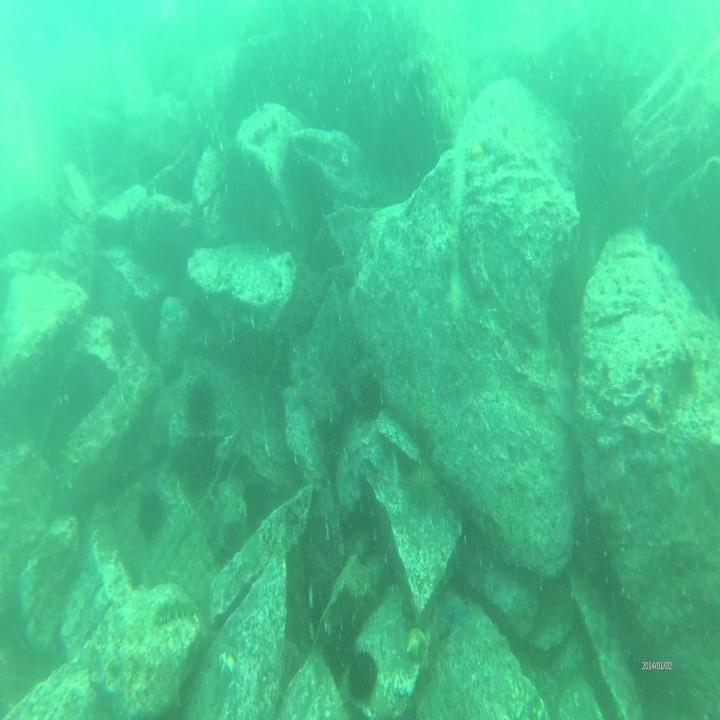echinus: (402, 461, 448, 515), (141, 398, 171, 471), (346, 648, 378, 706), (134, 493, 168, 547), (184, 374, 214, 430), (215, 518, 245, 572)
holothurian: (59, 423, 90, 491), (152, 590, 203, 624)
starfish: (437, 583, 471, 621), (334, 455, 354, 510)
